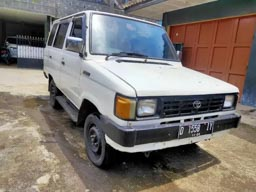plat: (179, 121, 213, 136)
